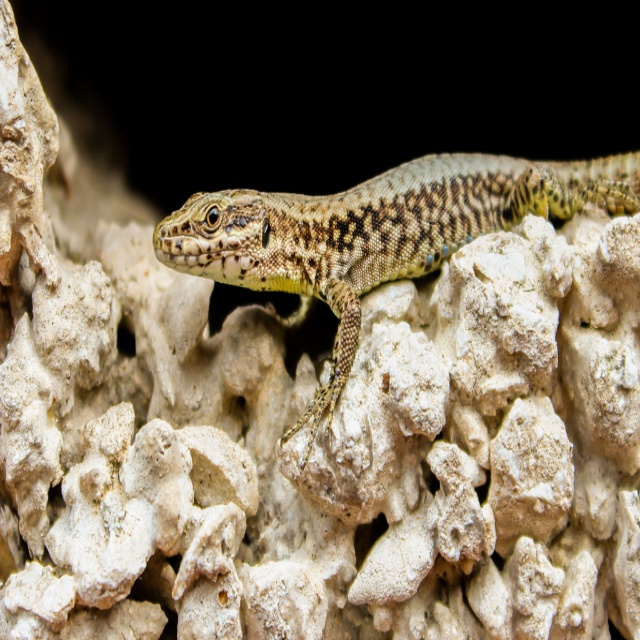Lizard: (152, 153, 640, 470)
